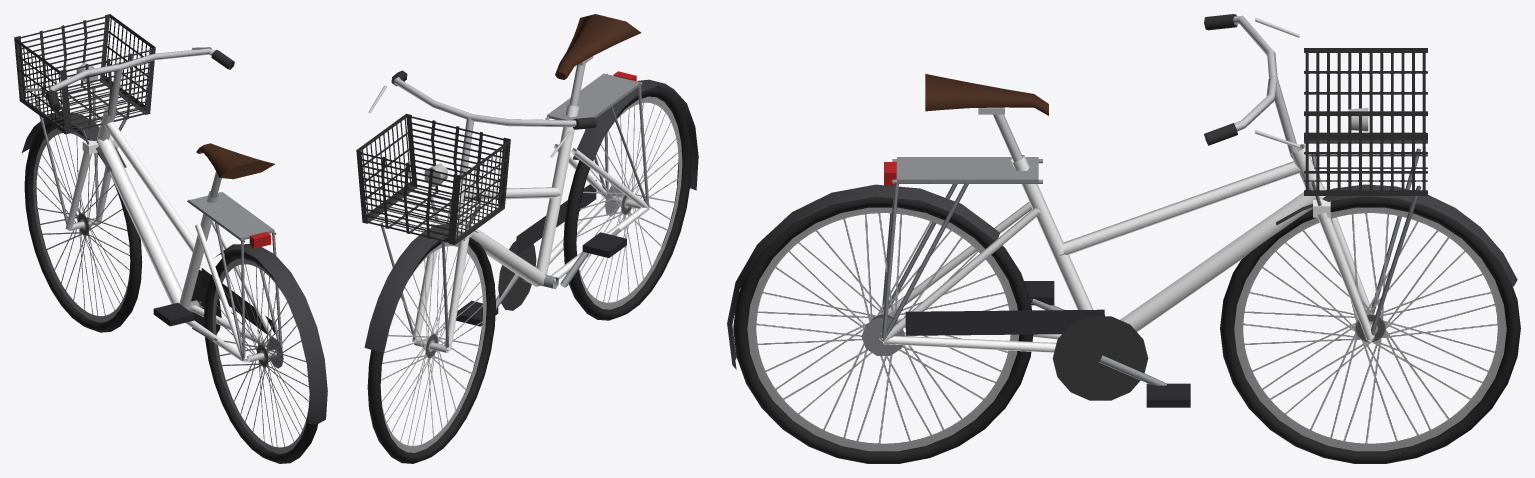
The model's file is city.glb.
3 views of the same model, side by side, from view 1: azimuth 30°, elevation 25°; view 2: azimuth 150°, elevation 25°; view 3: azimuth 270°, elevation 25° (orthographic). The views are drawn at different scales.
Parts seen in each view (by area): view 1: bike; view 2: bike; view 3: bike.
Boxes of the visible parts, x1,y1,x2,y2 form: bike: [14, 14, 327, 463]; bike: [356, 14, 698, 463]; bike: [727, 14, 1520, 463].
Size of the model in its own units: 0.6485 by 0.9861 by 1.79.
1 material, 1 textured.
